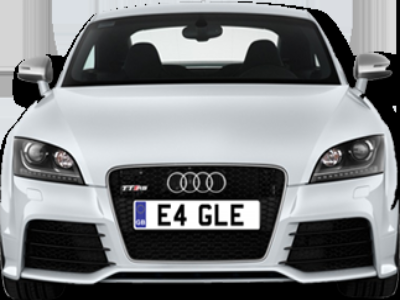licence: (134, 198, 261, 229)
